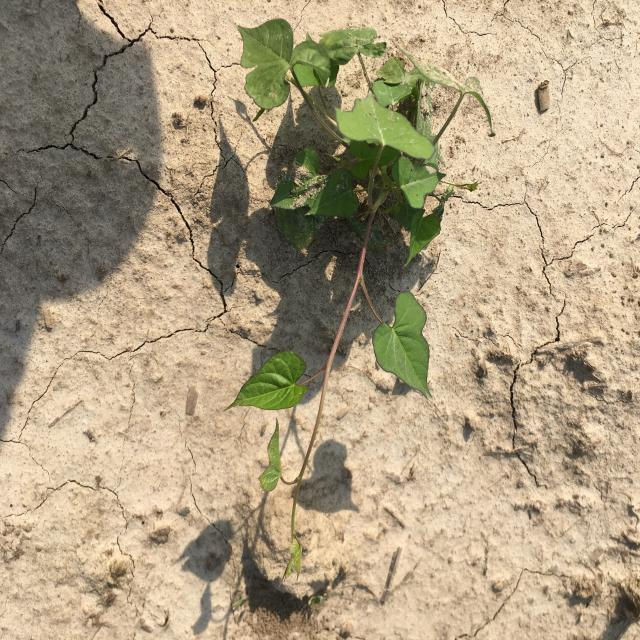MorningGlory: (224, 17, 495, 588)
